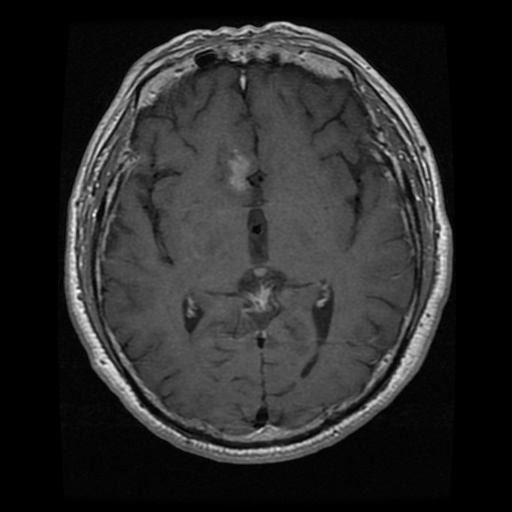pituitary: (224, 151, 254, 191)
